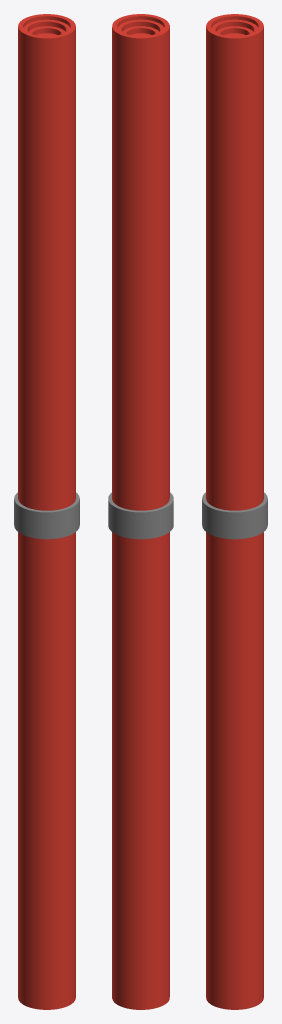
The model's file is Roll.fbx.
3 renders of one model, left to right at view 1: azimuth 90°, elevation 25°; view 2: azimuth 150°, elevation 25°; view 3: azimuth 270°, elevation 25°, orthographic.
Visible parts, largest first — view 1: Cylinder.002; view 2: Cylinder.002; view 3: Cylinder.002.
Boxes of the visible parts, x1=… form: Cylinder.002: x1=14, y1=14, x2=79, y2=1009; Cylinder.002: x1=108, y1=14, x2=173, y2=1009; Cylinder.002: x1=202, y1=14, x2=267, y2=1009.
Bounding box in the file's own units: 31.72 × 518 × 31.72.
